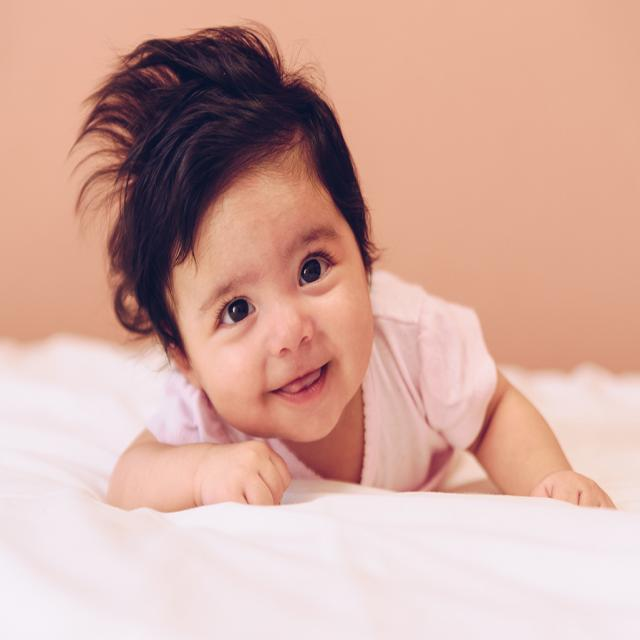non-dog: (65, 25, 619, 511)
